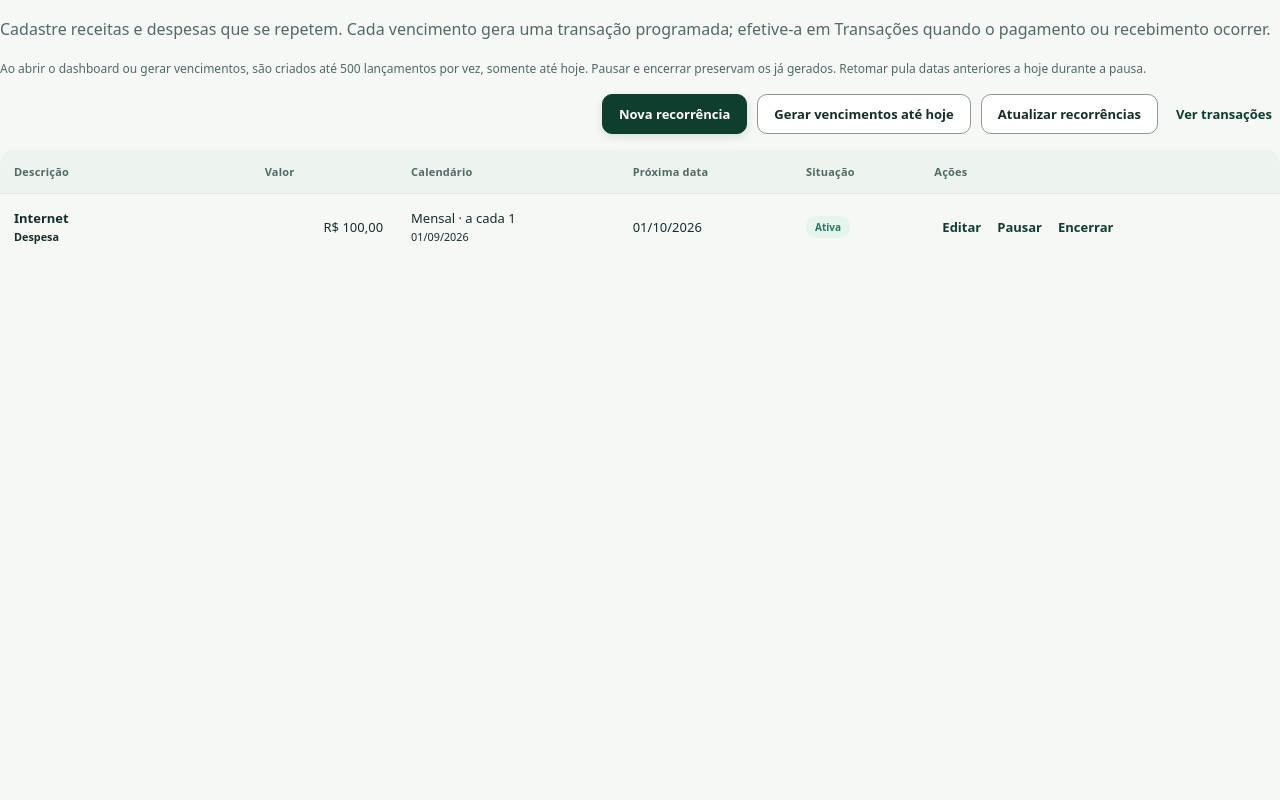
it: pauses, resumes and requires confirmation to end
Expected: the column heading "Internet" is shown, [14,209,69,227]
Click the button "Pausar" at (1020, 227), box [989,212,1050,242]
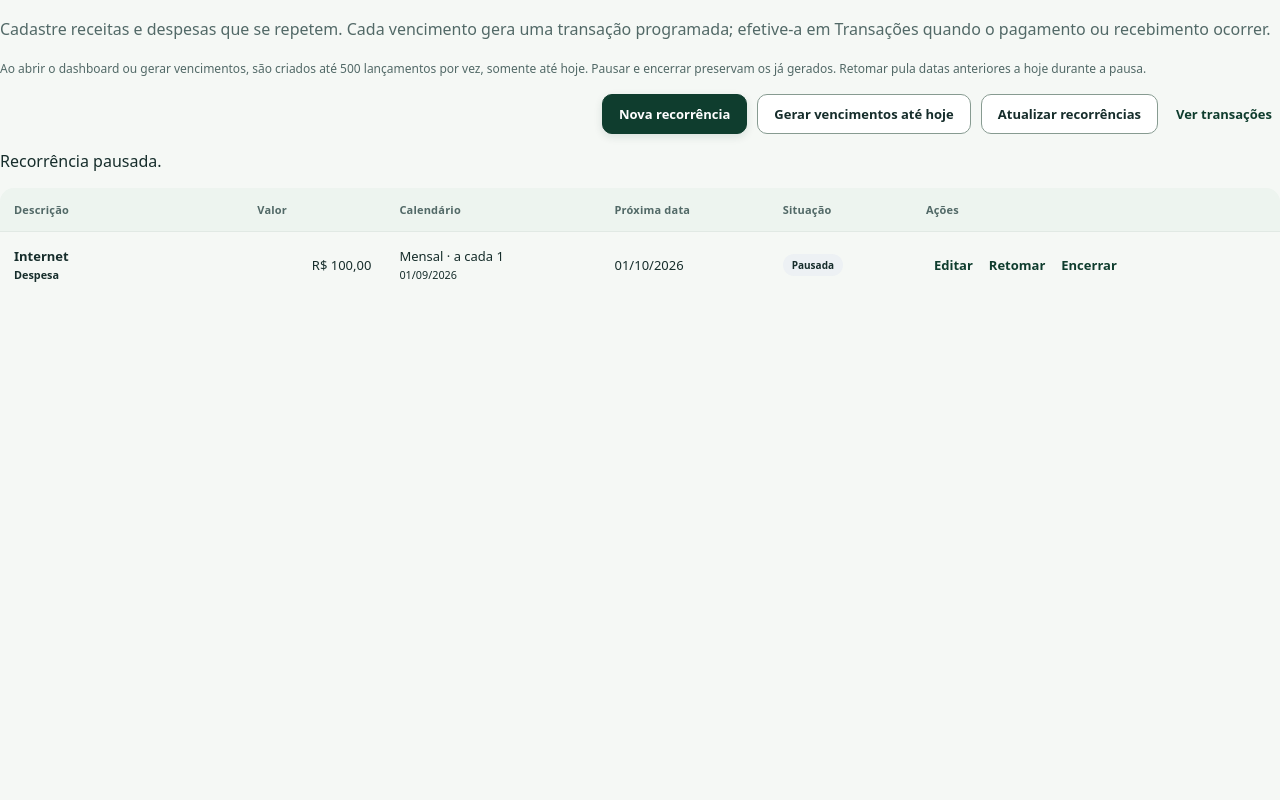
Result: the button "Retomar" is shown
Click the button "Retomar" at (1017, 265), box [981,250,1053,280]
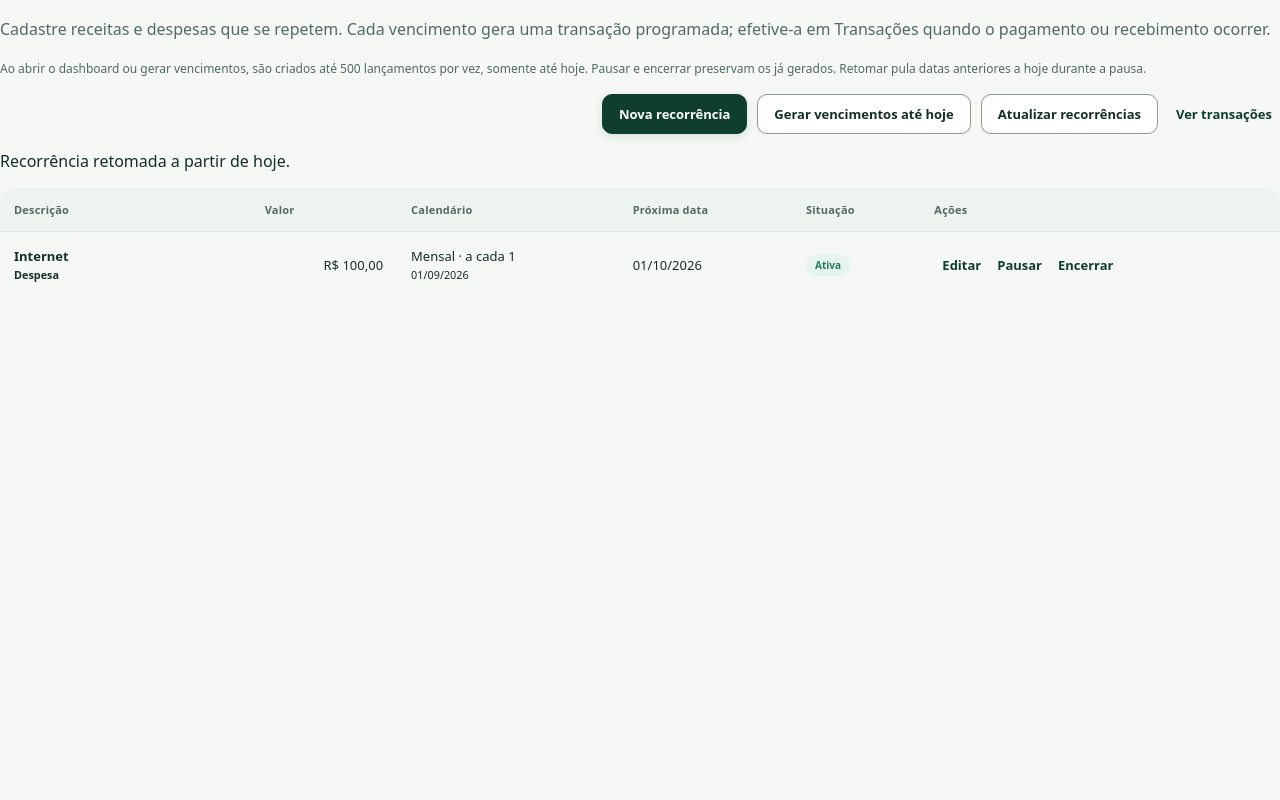
Result: the button "Pausar" is shown at [989,250,1050,280]
Click the button "Encerrar" at (1086, 265), box [1050,250,1122,280]
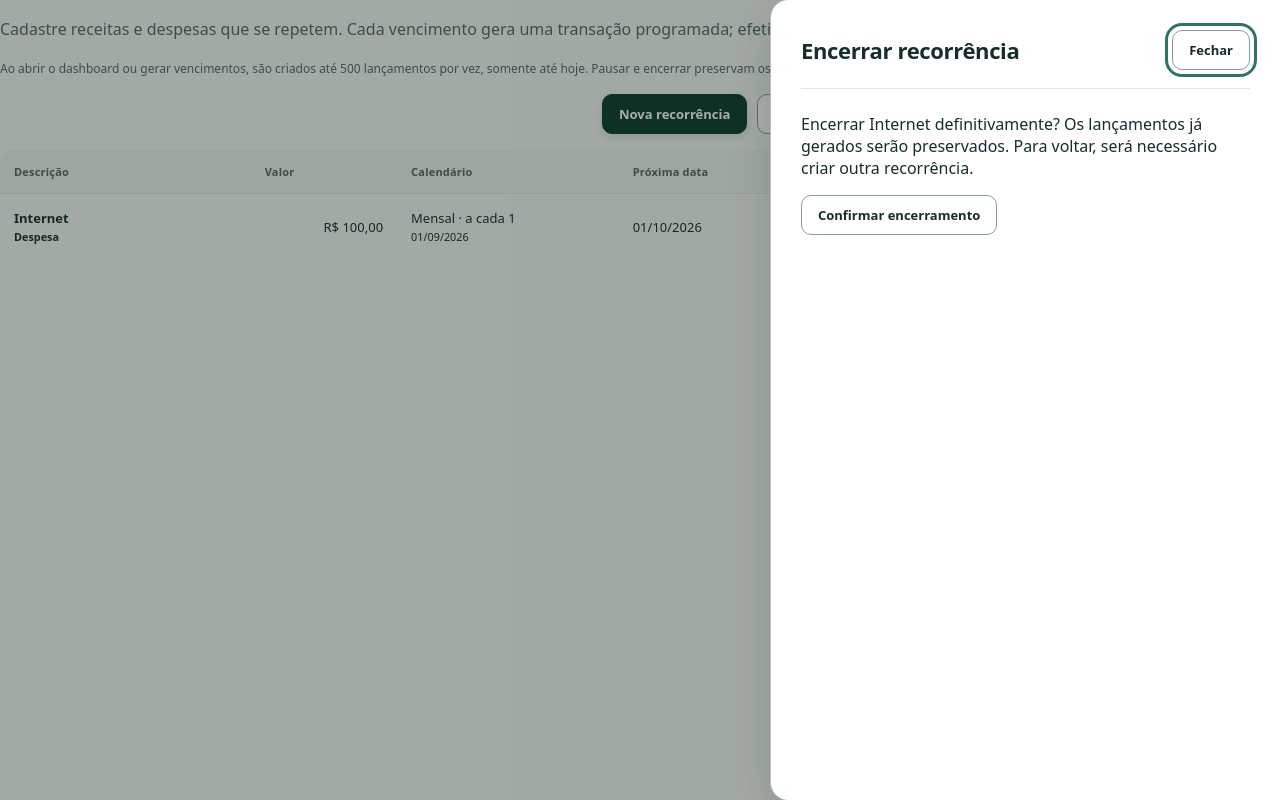
Click the button "Confirmar encerramento" at (899, 215), box [801,195,997,235]
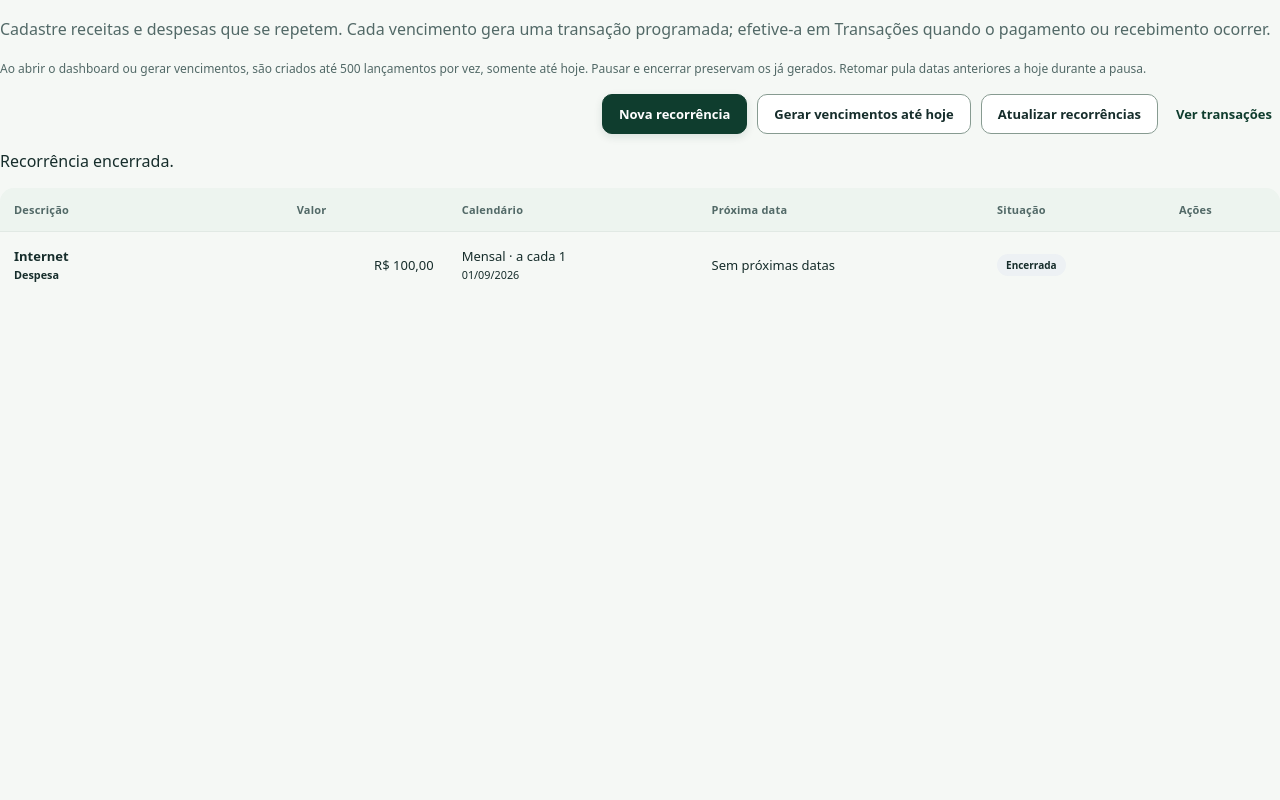
Result: the text "Encerrada" is shown at [997,254,1066,276]
